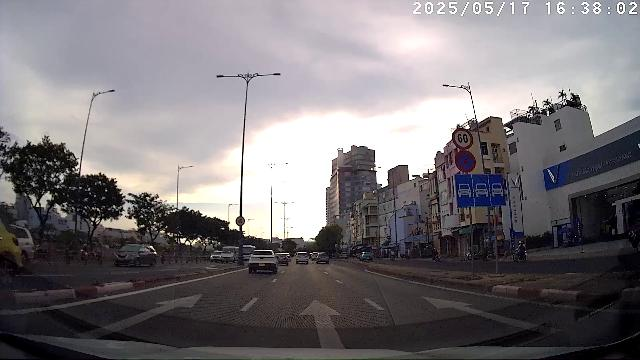127-toc-do-toi-da-60: (235, 217, 245, 226)
